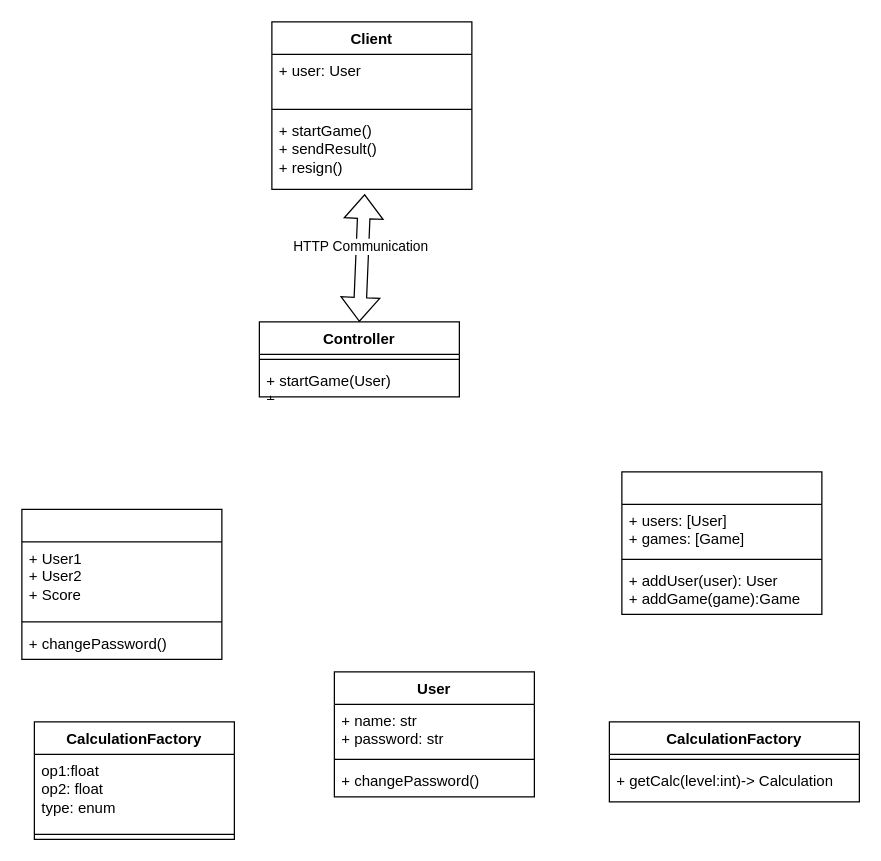
Image size: 881x861. Some labels were removed from this diagram. The shapes that lost their labels are listed below. From the top down, each one's box as (x1, y1, x2, y2) in pixels, then its label:
(621, 471, 822, 614): userDatabase
(21, 508, 222, 659): Game
